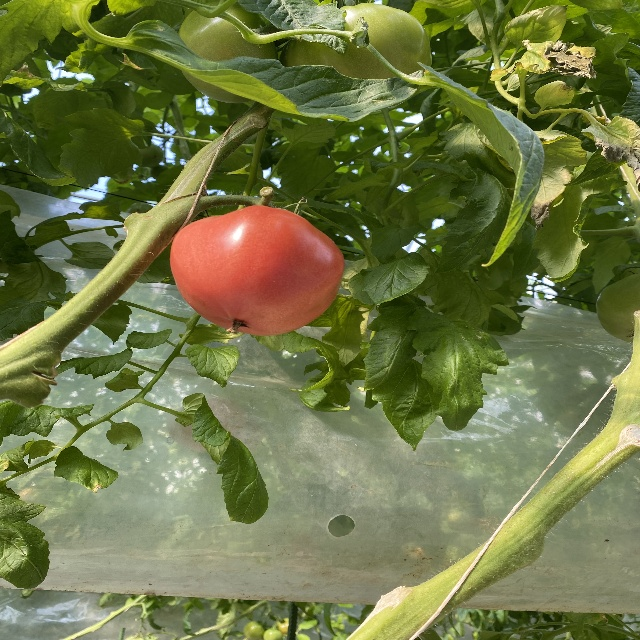b_fully_ripened: (170, 205, 345, 336)
b_green: (286, 2, 433, 106), (178, 1, 280, 103), (596, 274, 639, 345)
